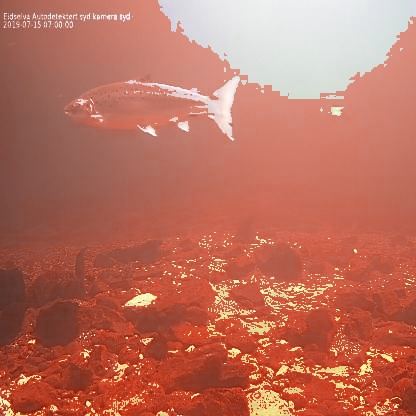salmon: (61, 69, 242, 142)
